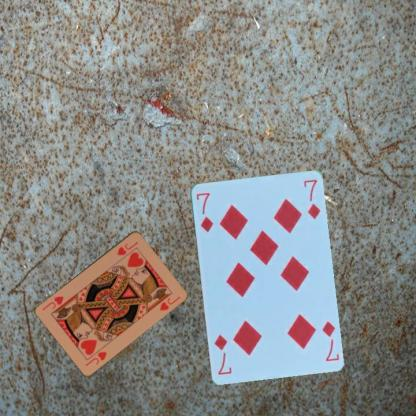7d: (193, 190, 214, 234), (319, 318, 340, 362)
Jh: (115, 238, 140, 257), (83, 349, 108, 368)
